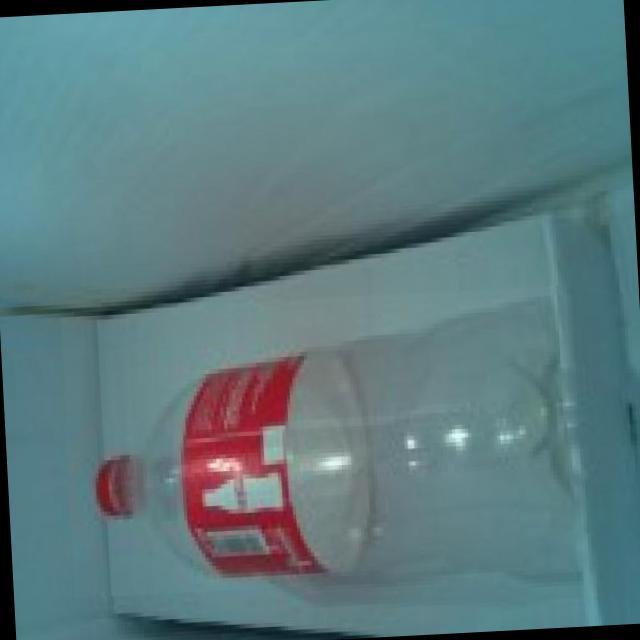good: (61, 285, 583, 598)
